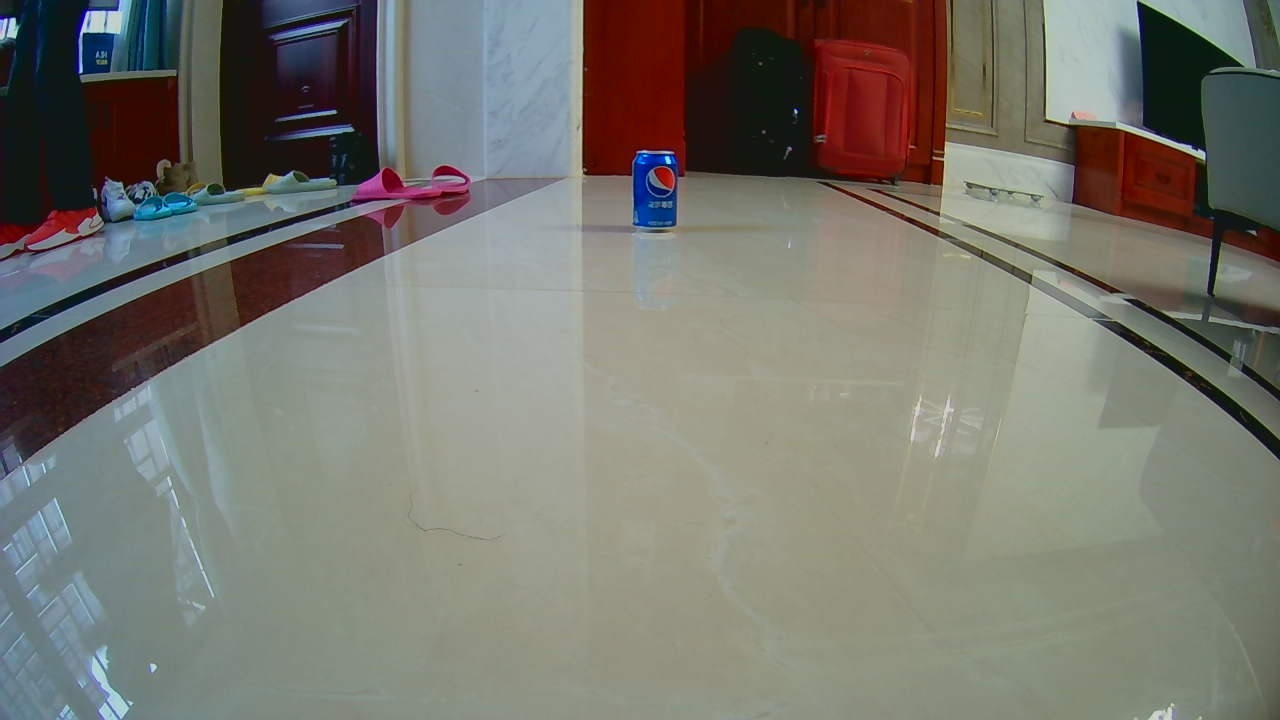pessi: (633, 143, 675, 236)
